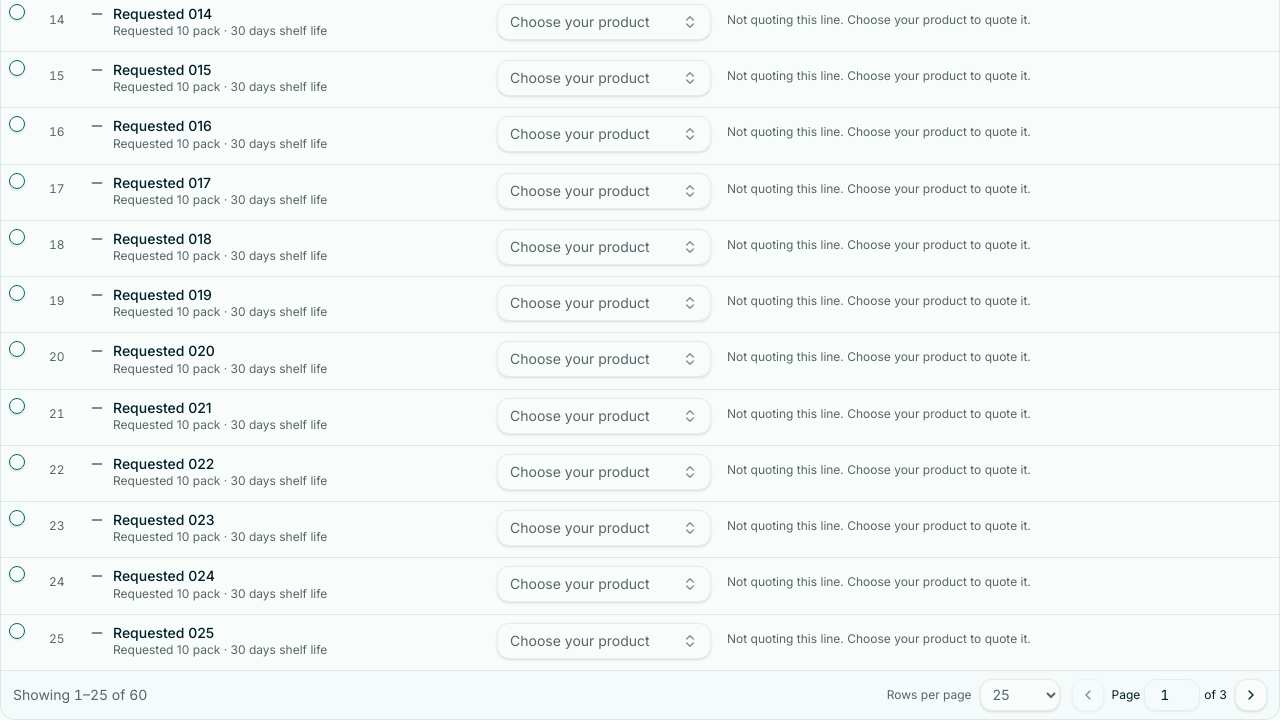
Test: shows one page of a long request and counts what is quoted
The image size is (1280, 720).
(page scrolled)
Click the button named "Next page" at (1251, 695), box [1235,679,1267,711]
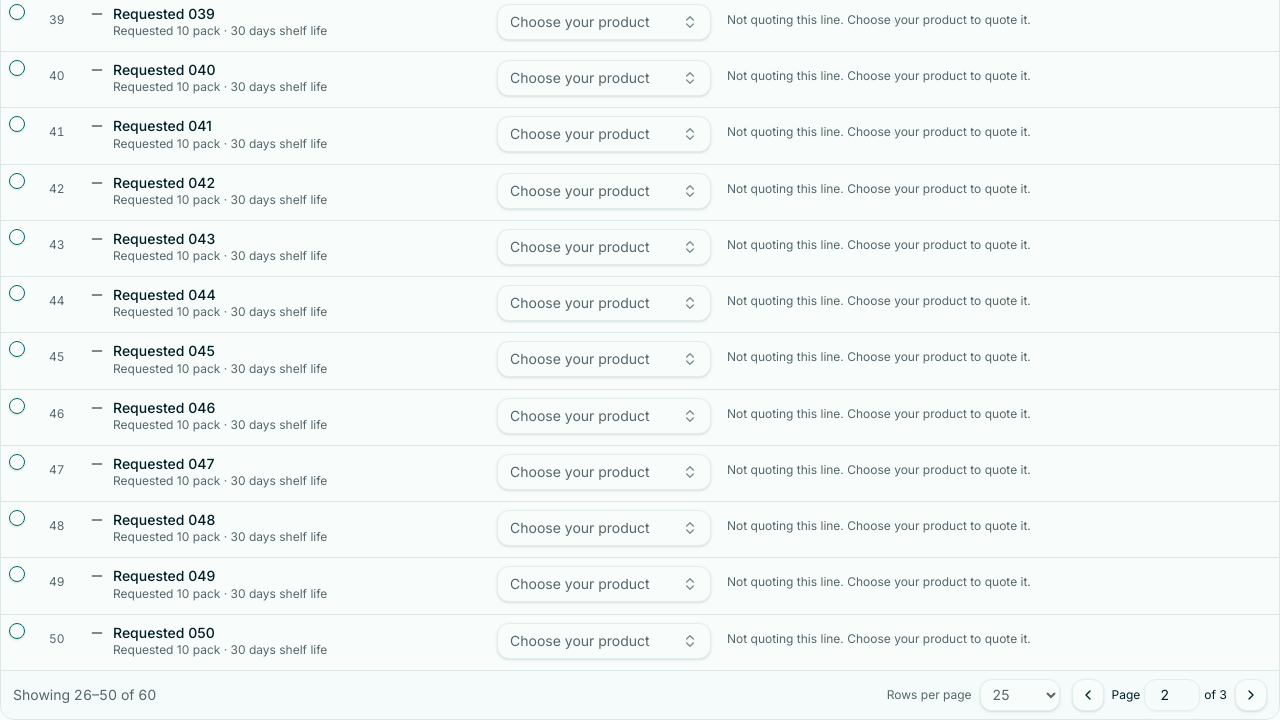
Expected: the text "Showing 26–50 of 60" is shown, [13,685,156,705]
